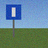sign: (6, 4, 21, 37)
